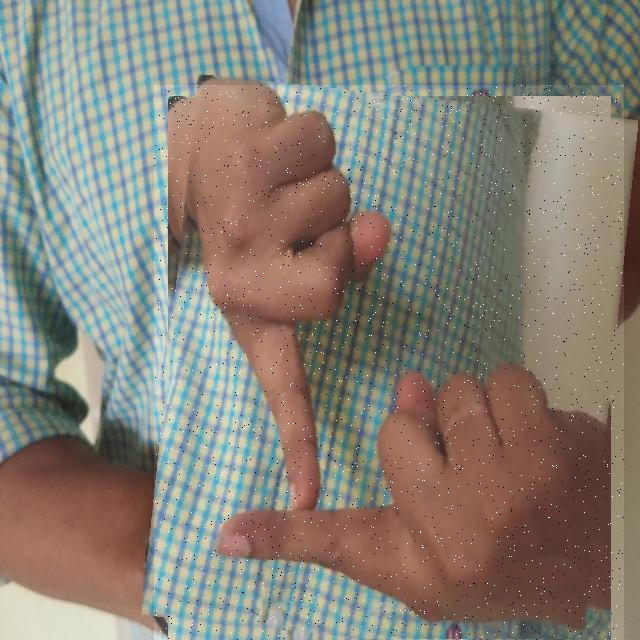T: (154, 85, 624, 640)
